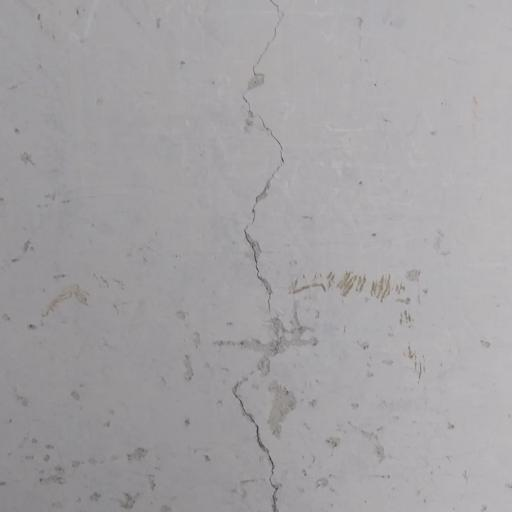minor_crack: (213, 0, 323, 512)
